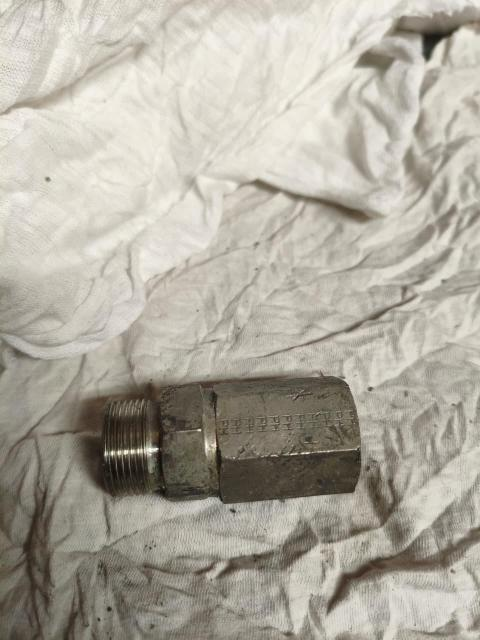Metal: (92, 377, 370, 497)
